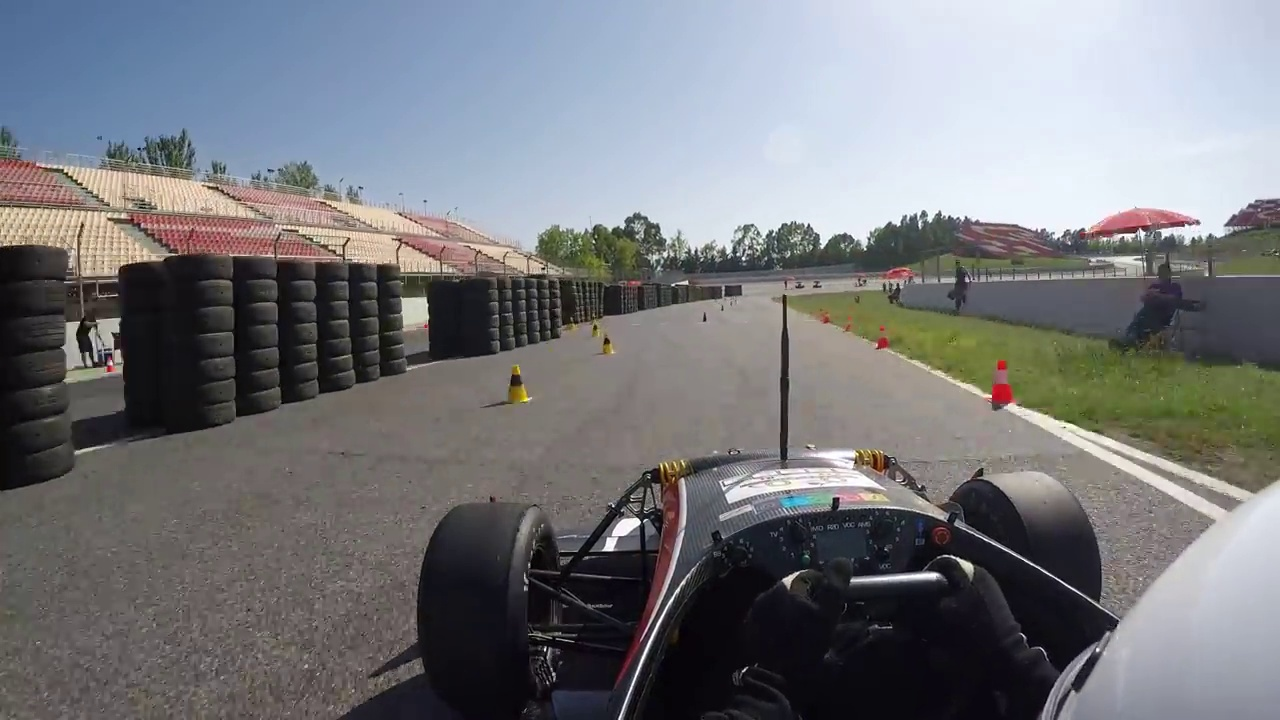Cone: (504, 364, 536, 407), (991, 356, 1016, 406)
